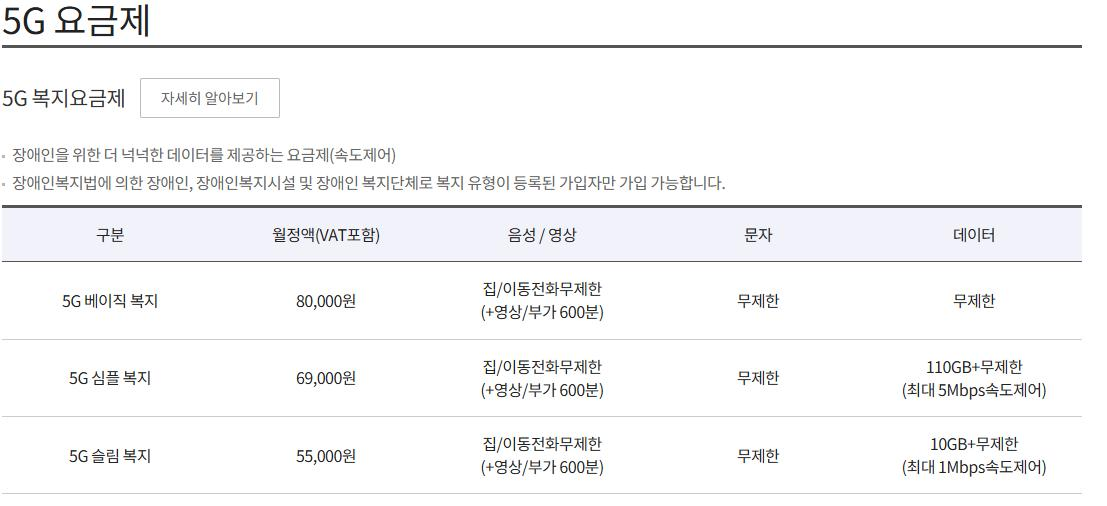button: (136, 77, 286, 120)
